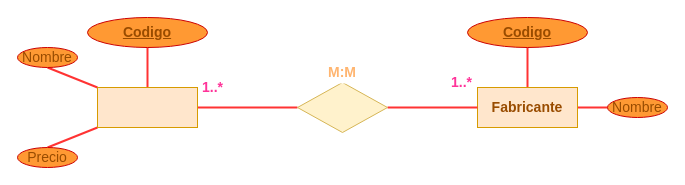
Image size: 685x185. Some labels were removed from this diagram. Each missing label, with the centre of its shape:
"Producto" belongs at point 147,107.
"Tiene" belongs at point 342,107.
